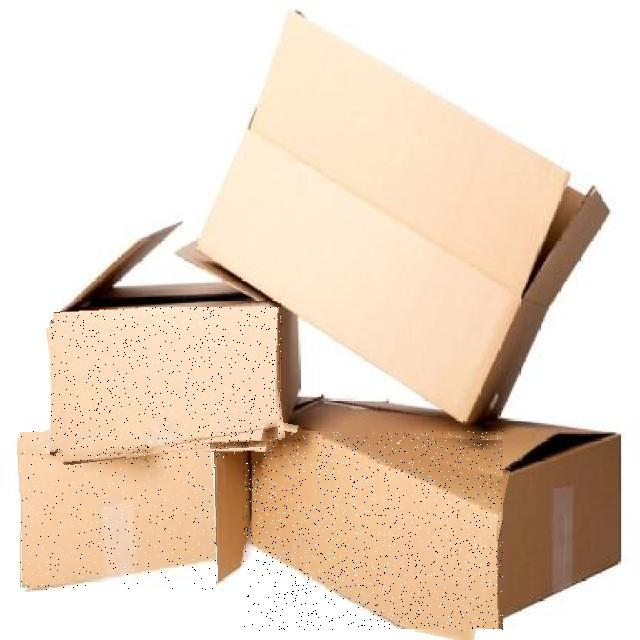BoxFace: (243, 432, 503, 632), (50, 307, 282, 458), (19, 430, 216, 590)
